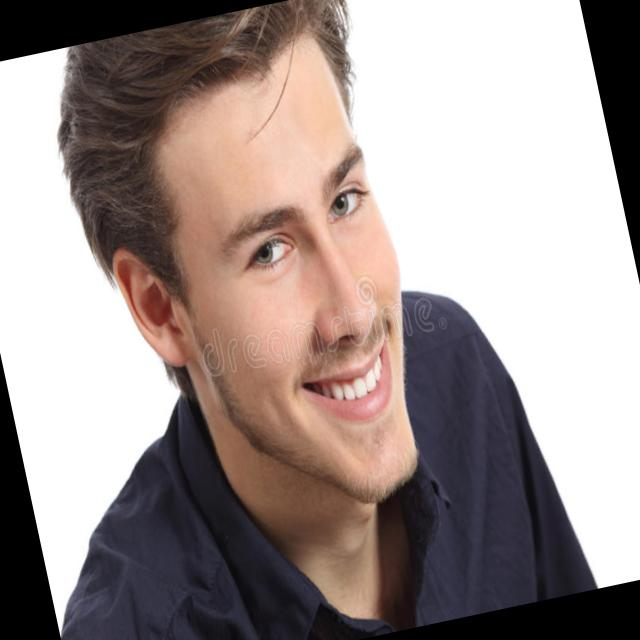face: (40, 0, 447, 545)
